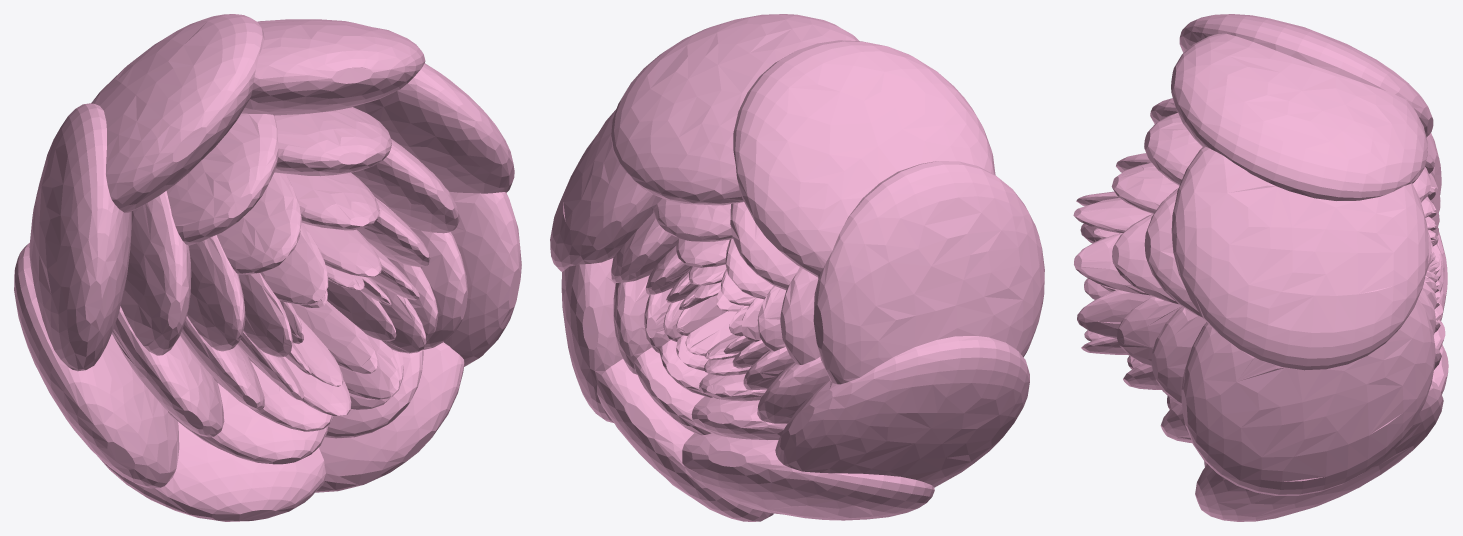
Rendered from Kart_flower.obj.
3 renders of one model, left to right at view 1: azimuth 30°, elevation 25°; view 2: azimuth 150°, elevation 25°; view 3: azimuth 270°, elevation 25°, orthographic. The views are drawn at different scales.
Visible parts, largest first — view 1: obj_0; view 2: obj_0; view 3: obj_0.
Part boxes in pixels (box(x1,y1,x2,y2)): obj_0: box(14, 14, 521, 521); obj_0: box(550, 14, 1044, 521); obj_0: box(1073, 14, 1448, 521).
Bounding box in the file's own units: 2.7 × 2.7 × 2.
